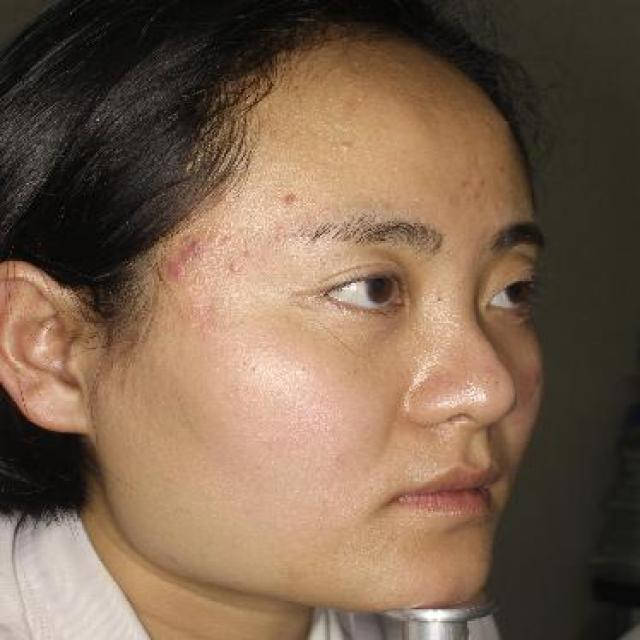papules: (172, 235, 215, 263), (166, 257, 192, 281)
pustules: (332, 134, 358, 157), (276, 192, 300, 208)
